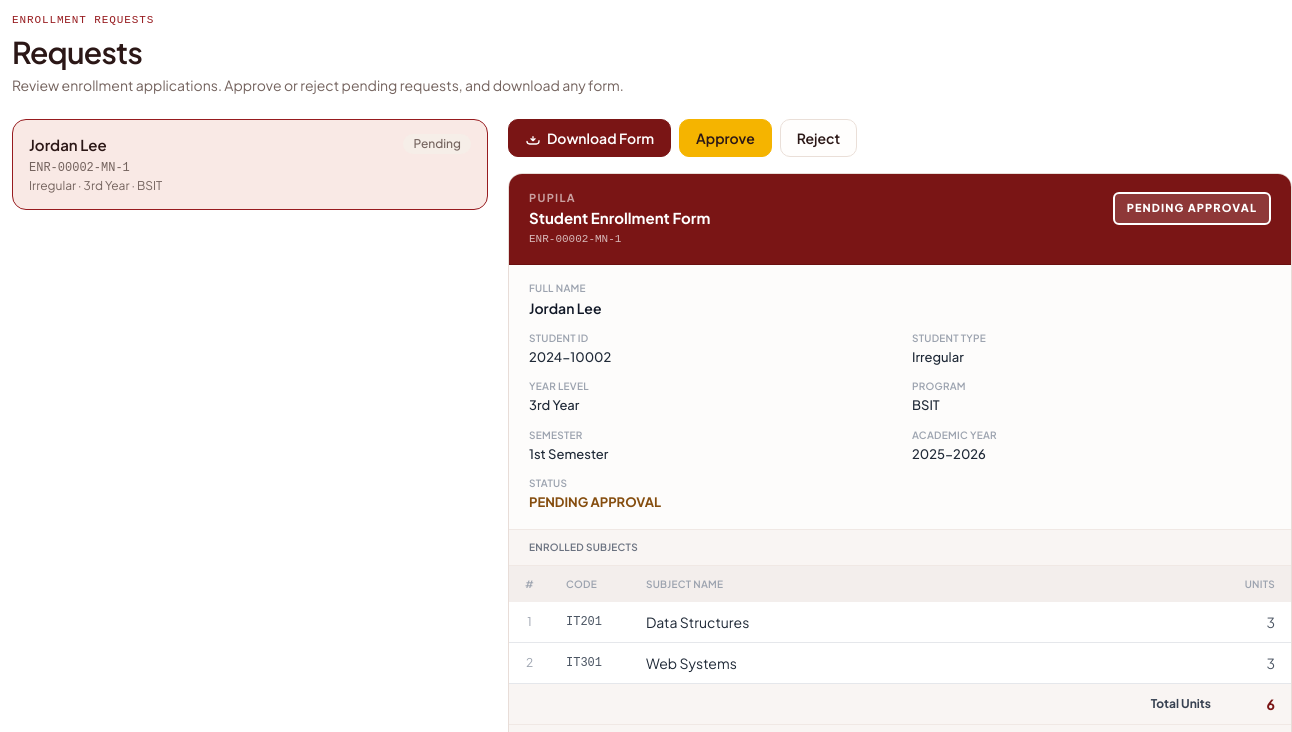
Test: RequestsPage — staff user › disables both buttons while confirming (double-click prevention)
Click the button with test id "confirm-btn" at (725, 138), box [679,119,772,157]
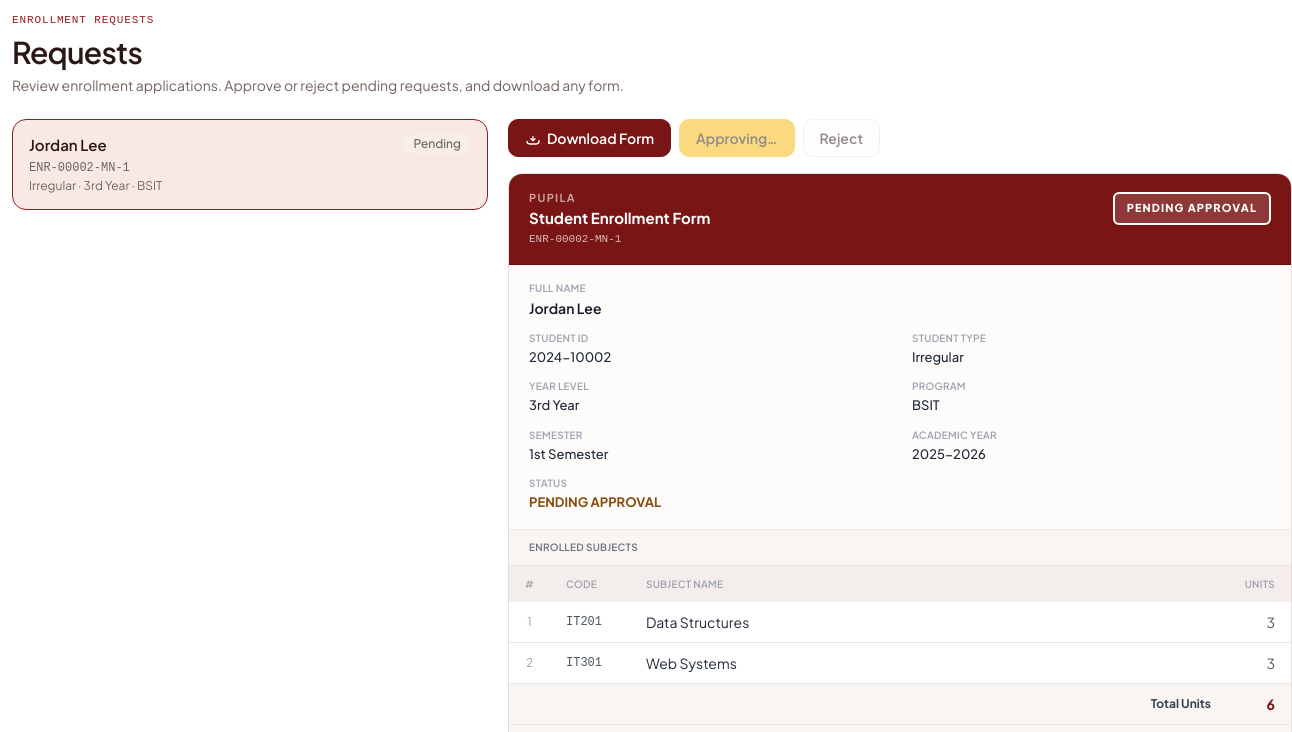
Expected: the button with test id "confirm-btn" is disabled, [679,119,795,157]
Expected: the button with test id "reject-btn" is disabled, [803,119,880,157]
